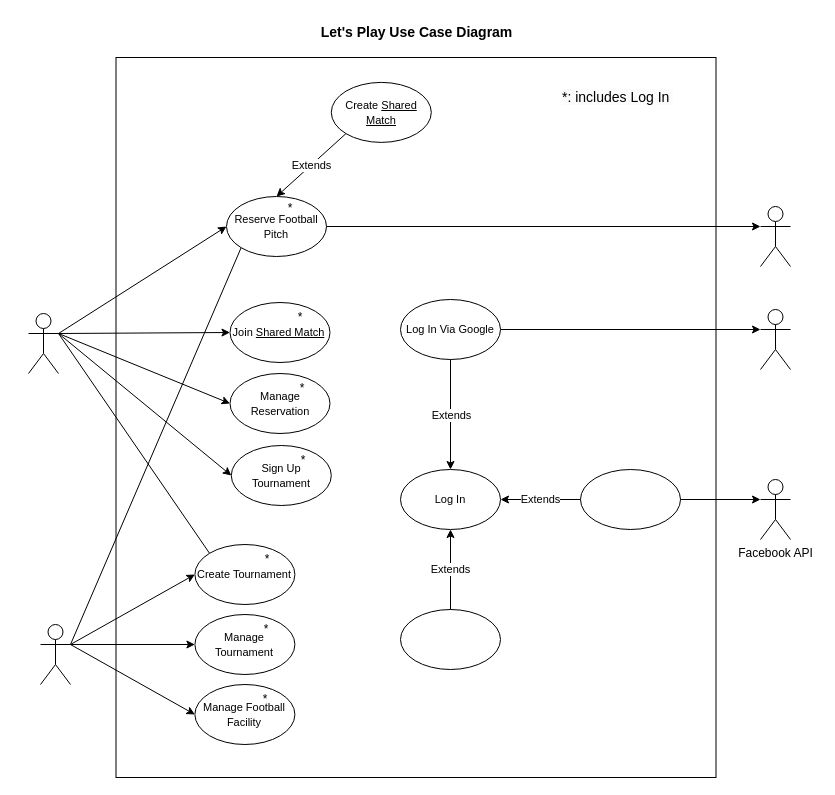
Some shapes in this 835 by 795 pixel diagram are drawn without their labels. The shapes that lost their labels are listed below. From the top down, each one's centre as x and y in pixels, then its label:
At point 775,236: "OpenStreetMap".
At point 43,343: "Customer".
At point 775,339: "Google API".
At point 630,499: "Log In Via Facebook".
At point 55,654: "Manager".
At point 450,639: "Create Account".
